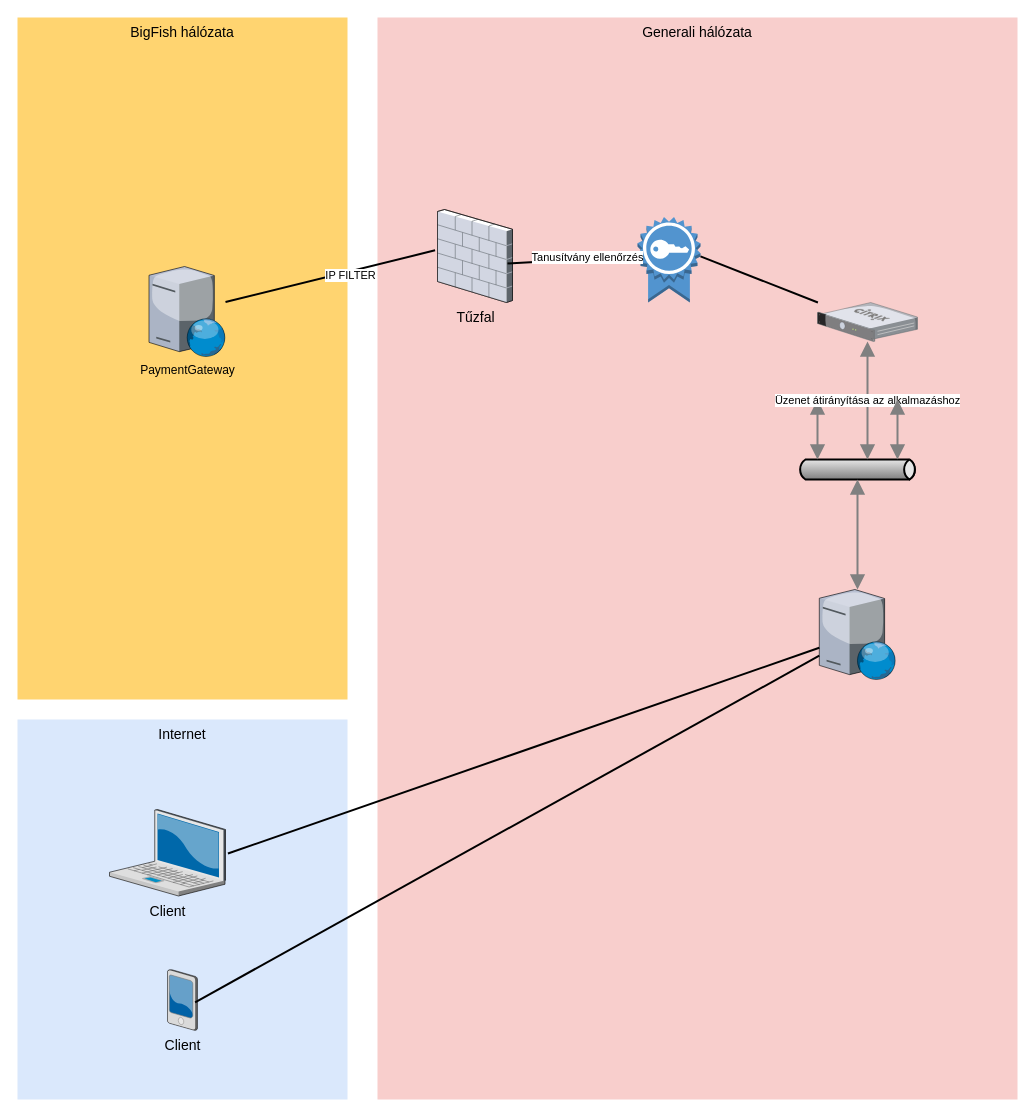
The diagram is 1034 pixels wide and 1116 high, and some of its shapes have lost their labels. Here are the shapes that lost their labels. From the top down, the box of each, then its label:
(817, 302, 917, 341): Netscaler
(796, 458, 918, 480): IBM Message Bróker
(819, 589, 895, 679): Generali OPM
